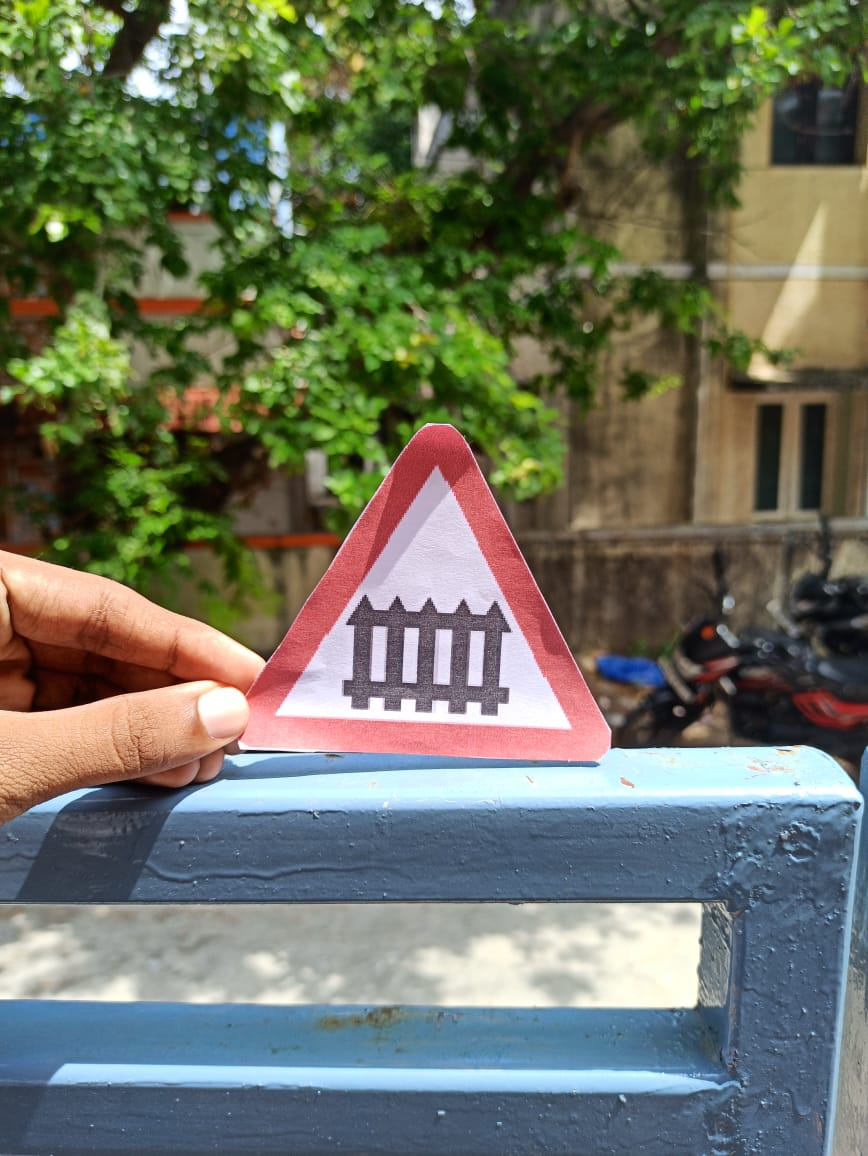GUARDED LEVEL CROSSING: (211, 411, 632, 771)
